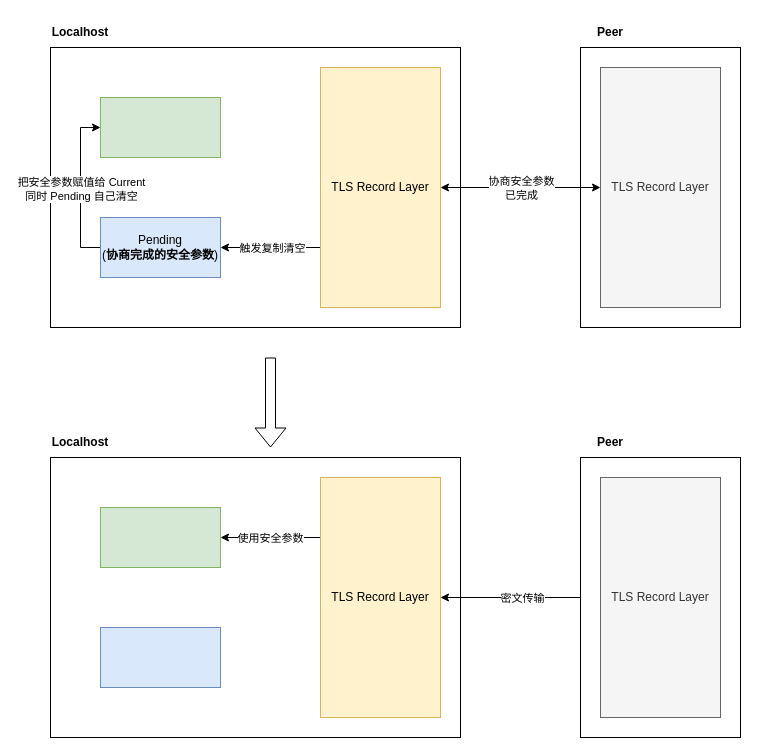
Image size: 758x755. Some labels were removed from this diagram. The centre of each missing label's shape, as x and y in pixels:
"Current ( Empty )" goes at (x=160, y=127).
"Current ( 协商完成的安全参数 )" goes at (x=160, y=537).
"Pending ( Empty )" goes at (x=160, y=657).
